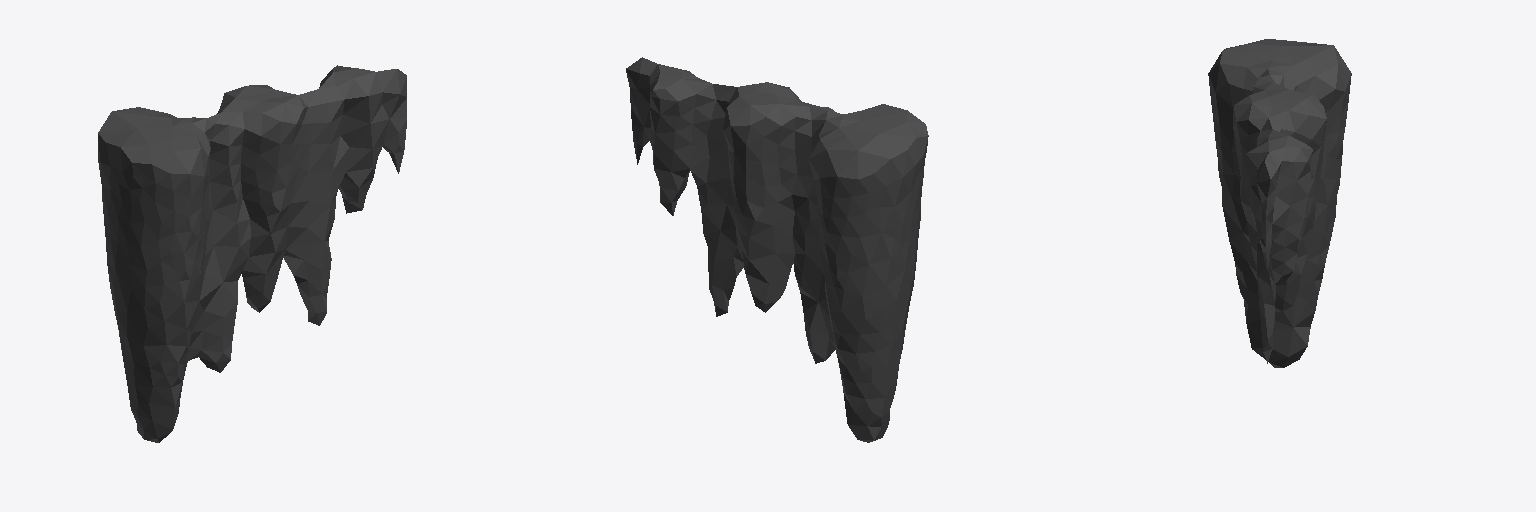
Rendered from CaveRockPack1_High5.obj.
3 views of the same model, side by side, from view 1: azimuth 30°, elevation 25°; view 2: azimuth 150°, elevation 25°; view 3: azimuth 270°, elevation 25° (orthographic).
Parts seen in each view (by area): view 1: CaveRockPack1_High5; view 2: CaveRockPack1_High5; view 3: CaveRockPack1_High5.
Part boxes in pixels (x1,y1,x2,y2): CaveRockPack1_High5: (98,65,406,442); CaveRockPack1_High5: (626,57,928,442); CaveRockPack1_High5: (1208,39,1351,367).
Bounding box in the file's own units: 17.66 × 18.44 × 7.47.